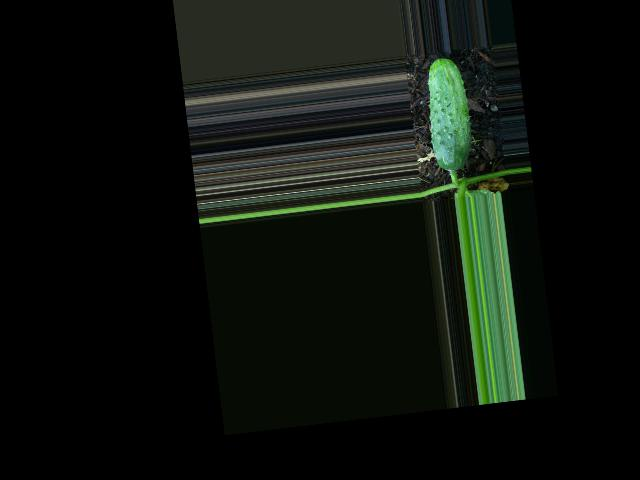cucumber: (421, 55, 476, 172)
